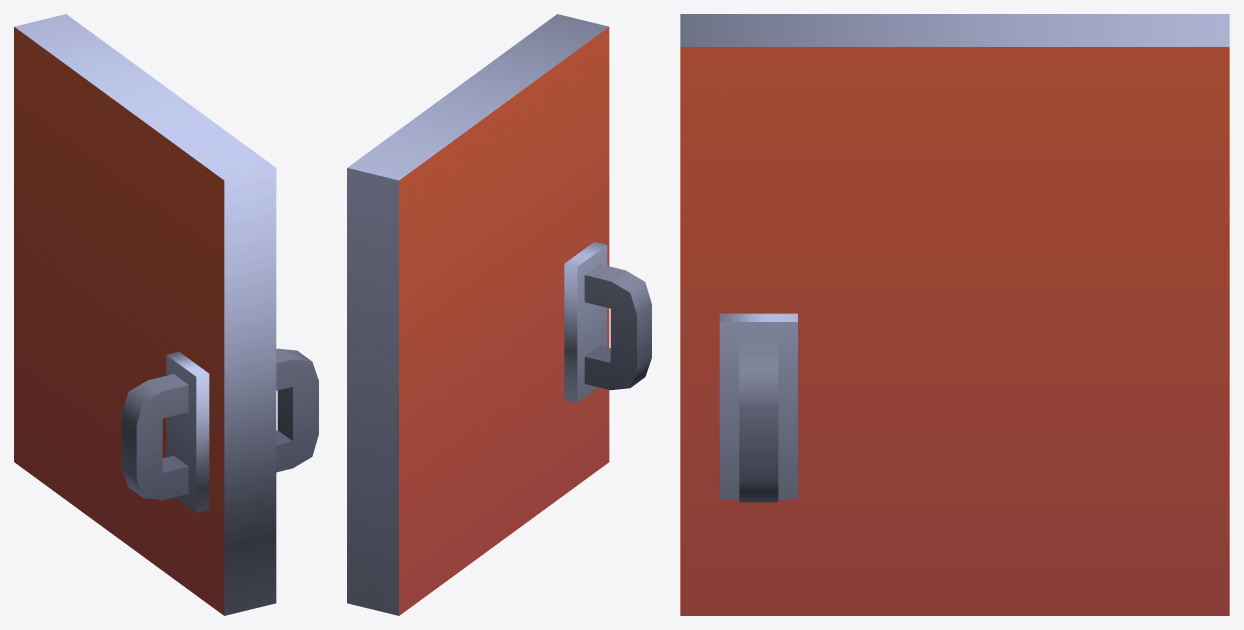
The model's file is door-sliding.fbx.
3 renders of one model, left to right at view 1: azimuth 30°, elevation 25°; view 2: azimuth 150°, elevation 25°; view 3: azimuth 270°, elevation 25°, orthographic. The views are drawn at different scales.
Visible parts, largest first — view 1: door; view 2: door; view 3: door.
Boxes of the visible parts, x1=… form: door: x1=14, y1=14, x2=318, y2=615; door: x1=347, y1=14, x2=651, y2=615; door: x1=680, y1=14, x2=1229, y2=615.
Bounding box in the file's own units: 35 × 80 × 70.
